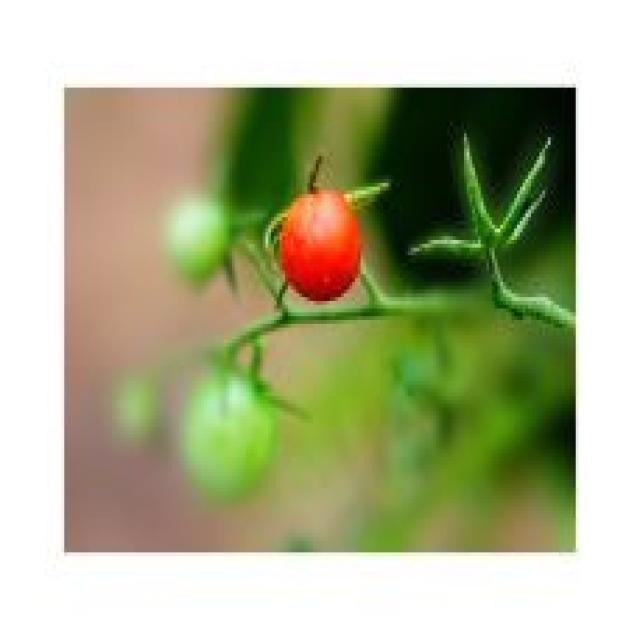level 2: (165, 355, 284, 518), (167, 199, 237, 308), (106, 372, 176, 474)
level 6: (248, 183, 382, 305)
